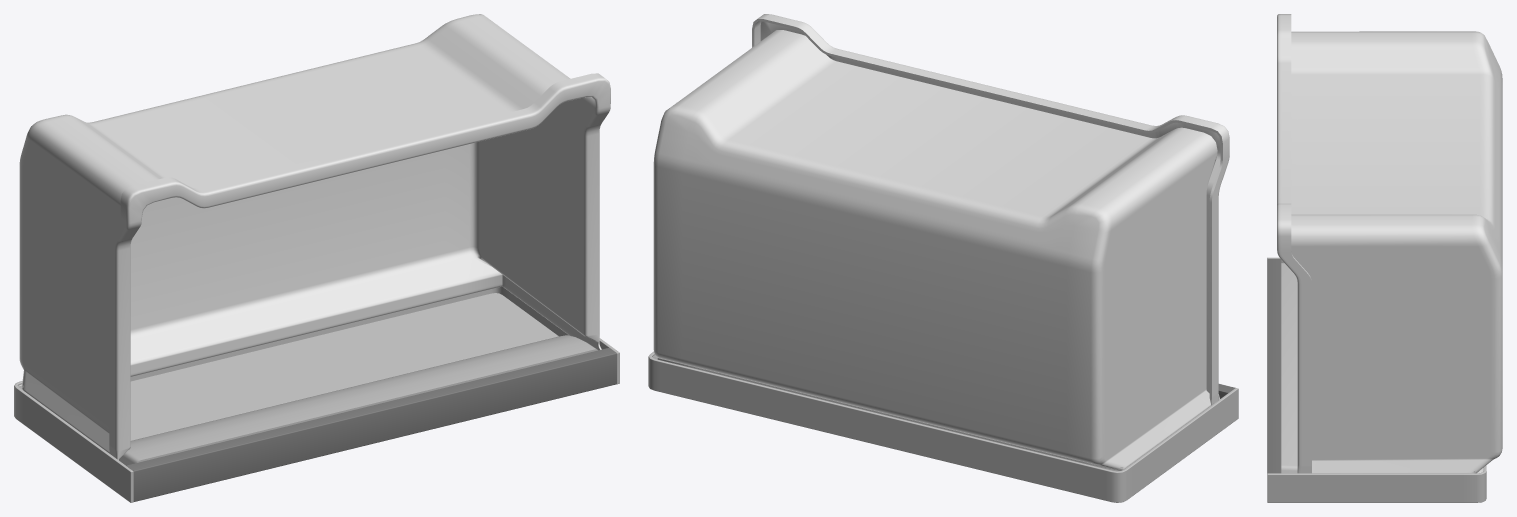
Rendered from SM_Fridge_Drawer_05.obj.
3 views of the same model, side by side, from view 1: azimuth 30°, elevation 25°; view 2: azimuth 150°, elevation 25°; view 3: azimuth 270°, elevation 25° (orthographic). The views are drawn at different scales.
Visible parts, largest first — view 1: SM_Fridge_Drawer_05; view 2: SM_Fridge_Drawer_05; view 3: SM_Fridge_Drawer_05.
Part boxes in pixels (x1=…): SM_Fridge_Drawer_05: x1=14, y1=14, x2=619, y2=502; SM_Fridge_Drawer_05: x1=648, y1=14, x2=1238, y2=502; SM_Fridge_Drawer_05: x1=1267, y1=14, x2=1502, y2=502.
Bounding box in the file's own units: 0.409 × 0.243 × 0.187.
3 materials, 2 textured.
